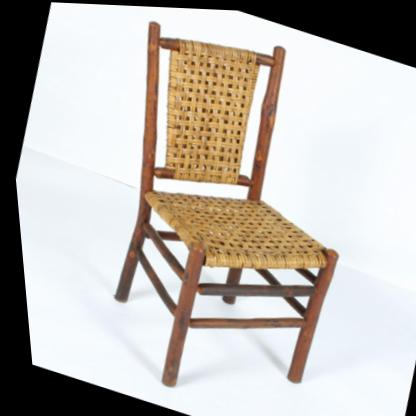Chair: (46, 2, 398, 416)
